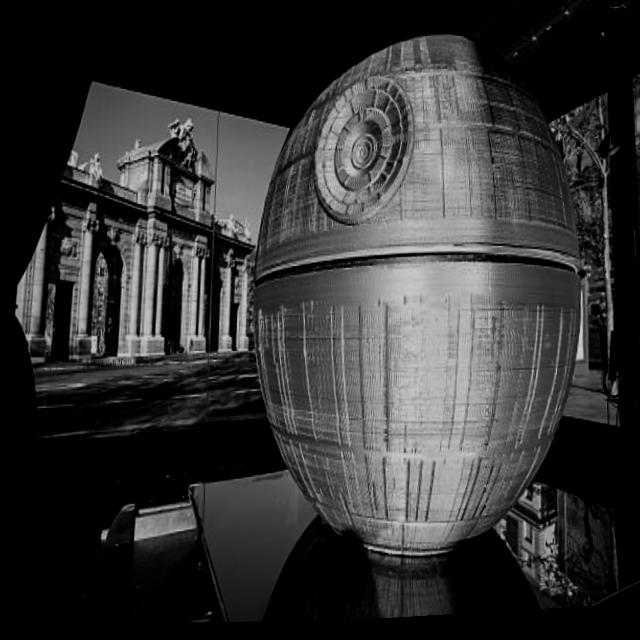death-stars: (250, 41, 581, 563)
